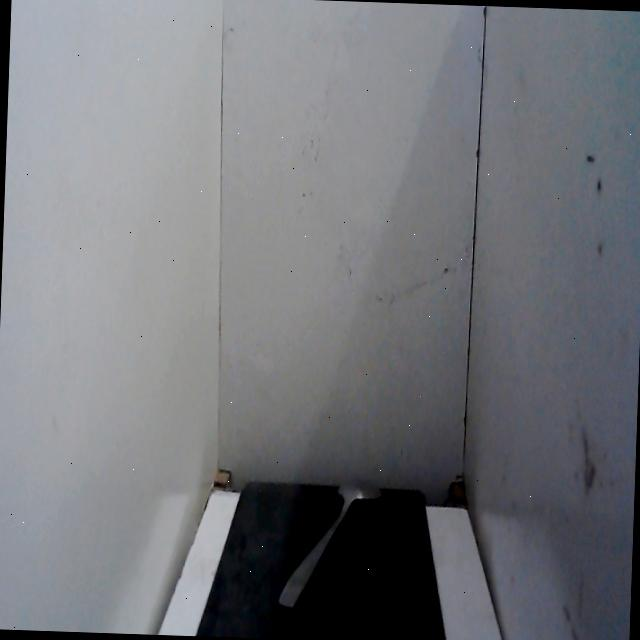metal: (272, 470, 388, 620)
